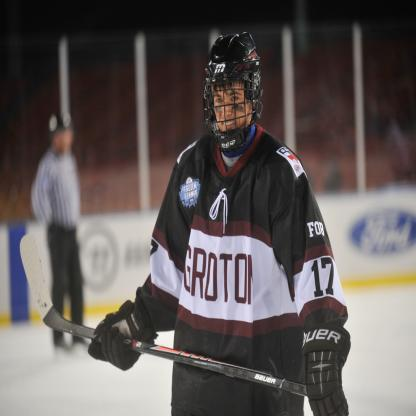Helmet: (203, 27, 266, 158), (49, 111, 73, 143)
